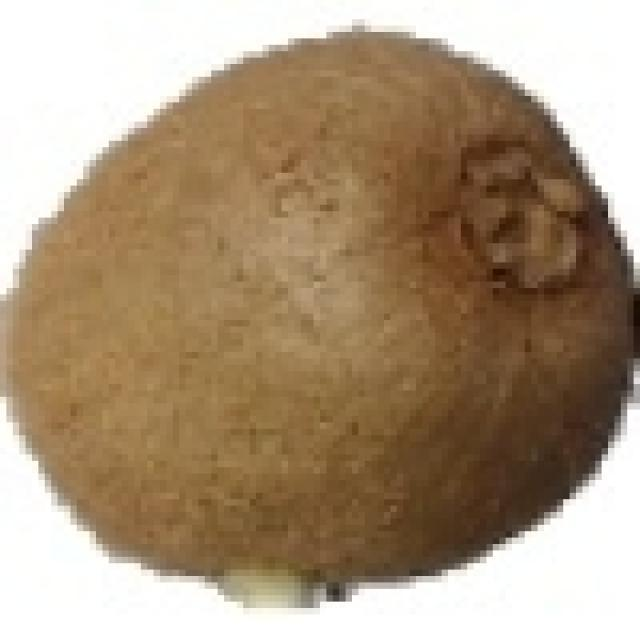kiwi: (6, 26, 614, 589)
